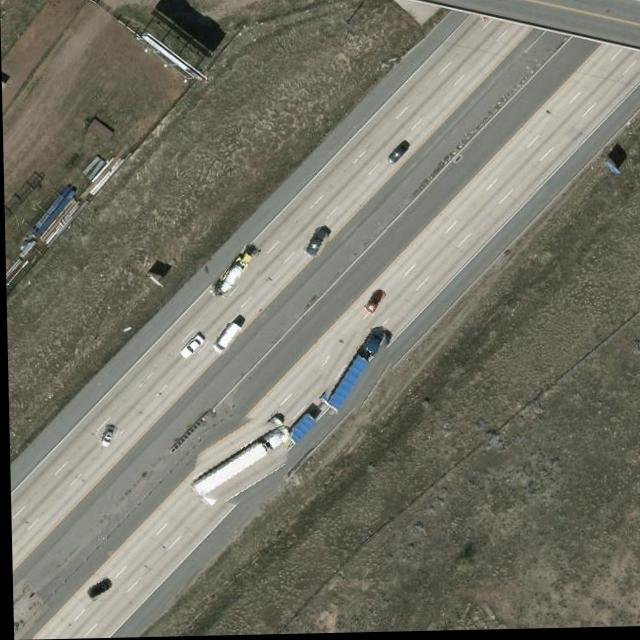vehicle: (190, 412, 289, 512), (316, 330, 395, 413), (208, 246, 261, 297), (210, 324, 241, 356), (299, 229, 330, 260), (176, 334, 205, 361), (84, 575, 111, 604), (92, 423, 119, 449), (361, 291, 387, 317), (387, 141, 410, 167)
